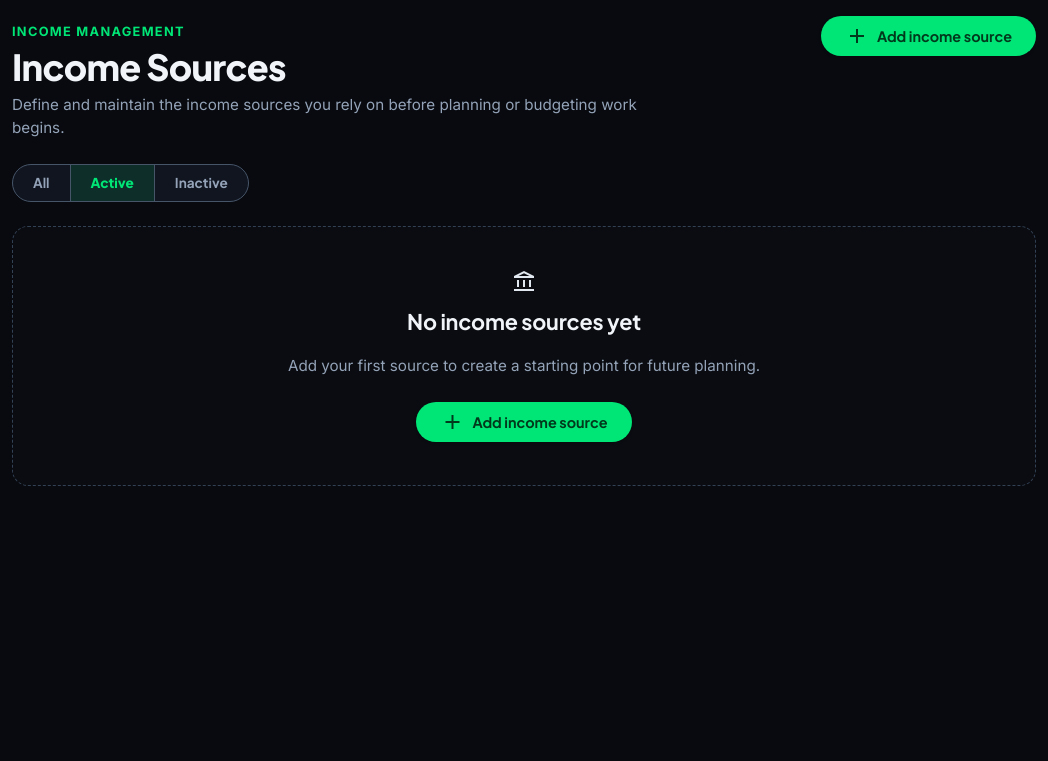
Test case: IncomeSourcesPage › keeps salary type and bi-weekly cadence fixed
Click the button "Add income source" in the row of "Income Management": x=928, y=36 [821,16,1036,56]
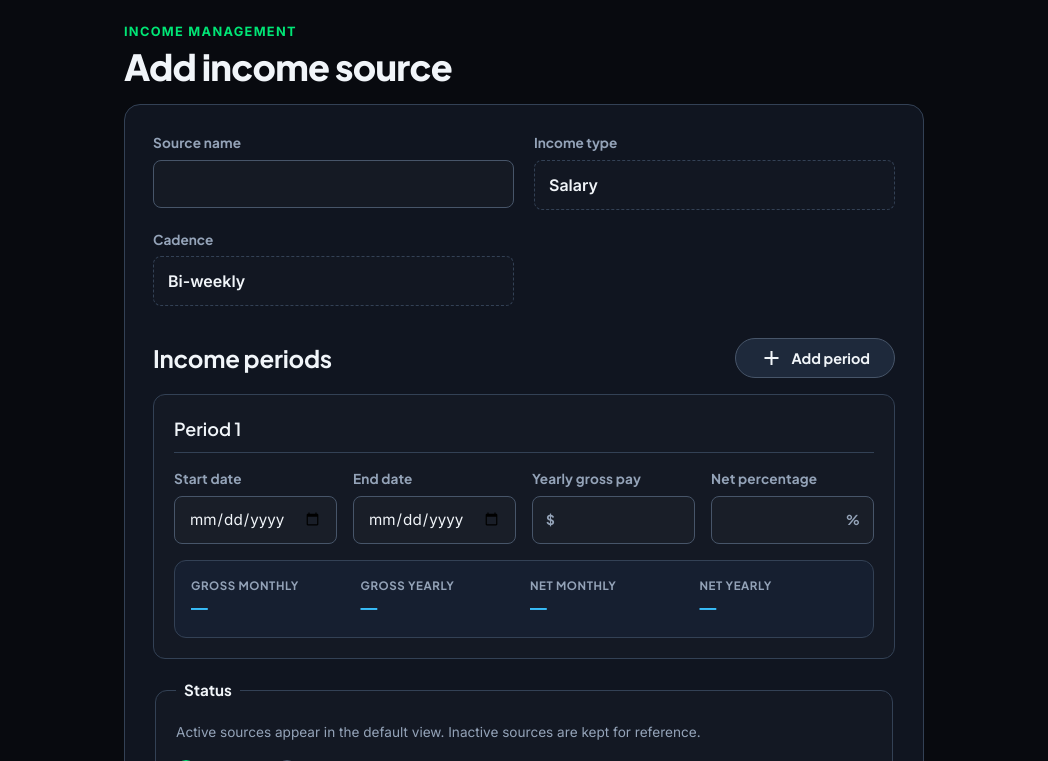
Expected: the text "Salary" is shown, [534,160,895,210]
Expected: the text "Bi-weekly" is shown, [153,256,514,306]
Expected: the date field labelled "Start date" is shown, [174,496,337,544]
